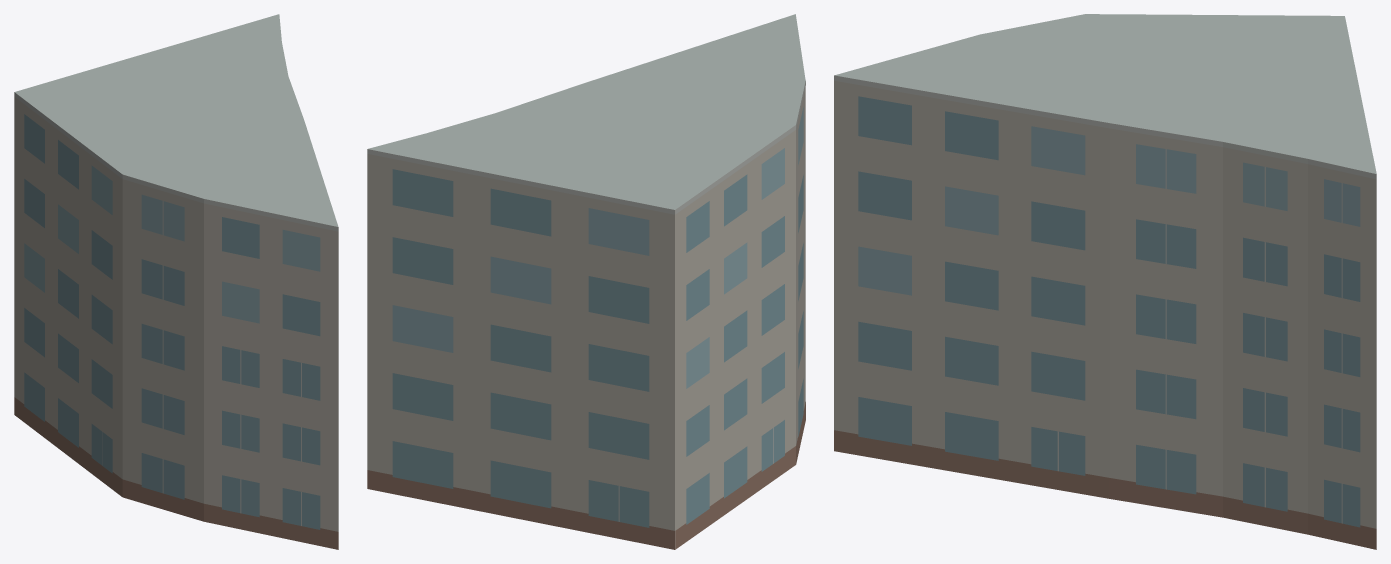
Rendered from survey-upis-32809164.glb.
3 views of the same model, side by side, from view 1: azimuth 30°, elevation 25°; view 2: azimuth 150°, elevation 25°; view 3: azimuth 270°, elevation 25° (orthographic). The views are drawn at different scales.
Parts seen in each view (by area): view 1: survey-upis-32809164.tmp; view 2: survey-upis-32809164.tmp; view 3: survey-upis-32809164.tmp.
Part boxes in pixels (x1,y1,x2,y2): survey-upis-32809164.tmp: (14, 14, 338, 549); survey-upis-32809164.tmp: (367, 14, 805, 549); survey-upis-32809164.tmp: (834, 14, 1376, 549).
Size of the model in its own units: 15.73 by 17.2 by 22.52.
